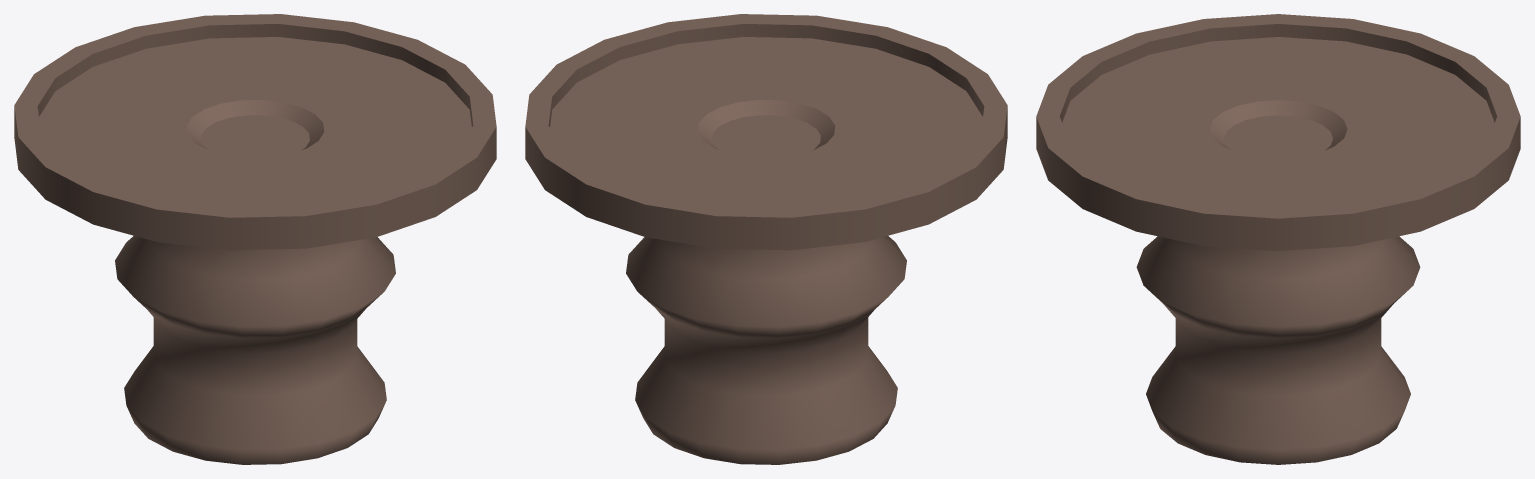
Rendered from chair.fbx.
3 renders of one model, left to right at view 1: azimuth 30°, elevation 25°; view 2: azimuth 150°, elevation 25°; view 3: azimuth 270°, elevation 25°, orthographic.
Visible parts, largest first — view 1: chair_07; view 2: chair_07; view 3: chair_07.
Part boxes in pixels (x1,y1,x2,y2): chair_07: (14,14,496,464); chair_07: (525,14,1007,464); chair_07: (1036,14,1520,464).
Bounding box in the file's own units: 72.46 × 52.04 × 72.46.
